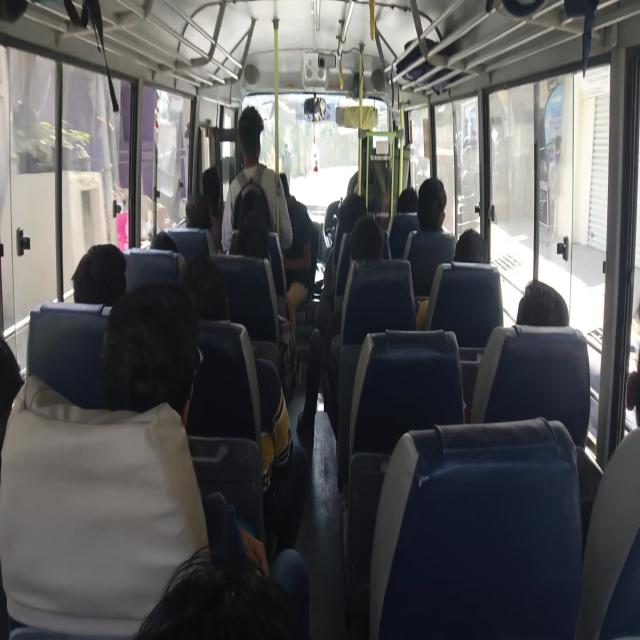person: (138, 543, 289, 640), (111, 304, 186, 414), (0, 314, 35, 452), (523, 269, 570, 360), (175, 256, 229, 331), (274, 170, 312, 261), (454, 208, 501, 276), (614, 342, 640, 462), (231, 114, 267, 188), (74, 230, 118, 288), (351, 223, 392, 280), (413, 182, 457, 235), (230, 220, 268, 278), (334, 192, 374, 240), (176, 194, 214, 240), (196, 163, 231, 210), (394, 183, 434, 221), (147, 228, 183, 264), (241, 188, 276, 217)
